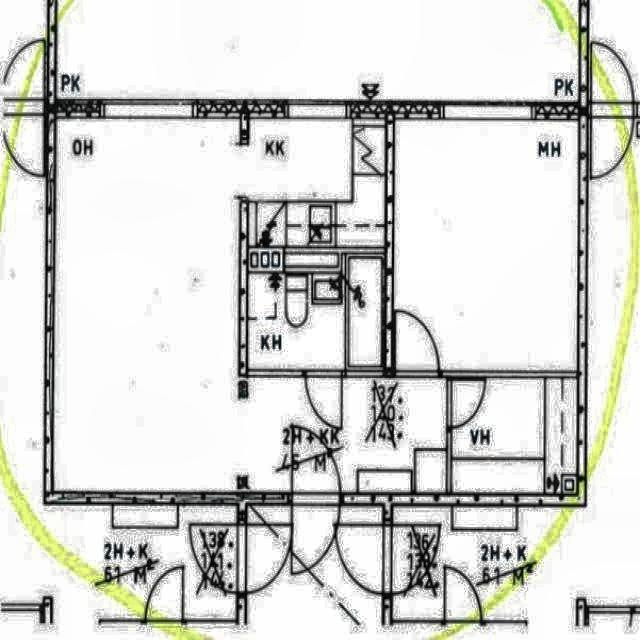room: (394, 119, 578, 371), (248, 254, 381, 369), (453, 378, 544, 457)
